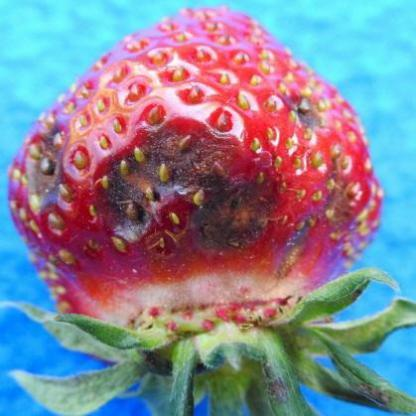Strawberry_Anthracnose_Fruit_Rot: (15, 92, 358, 290)
